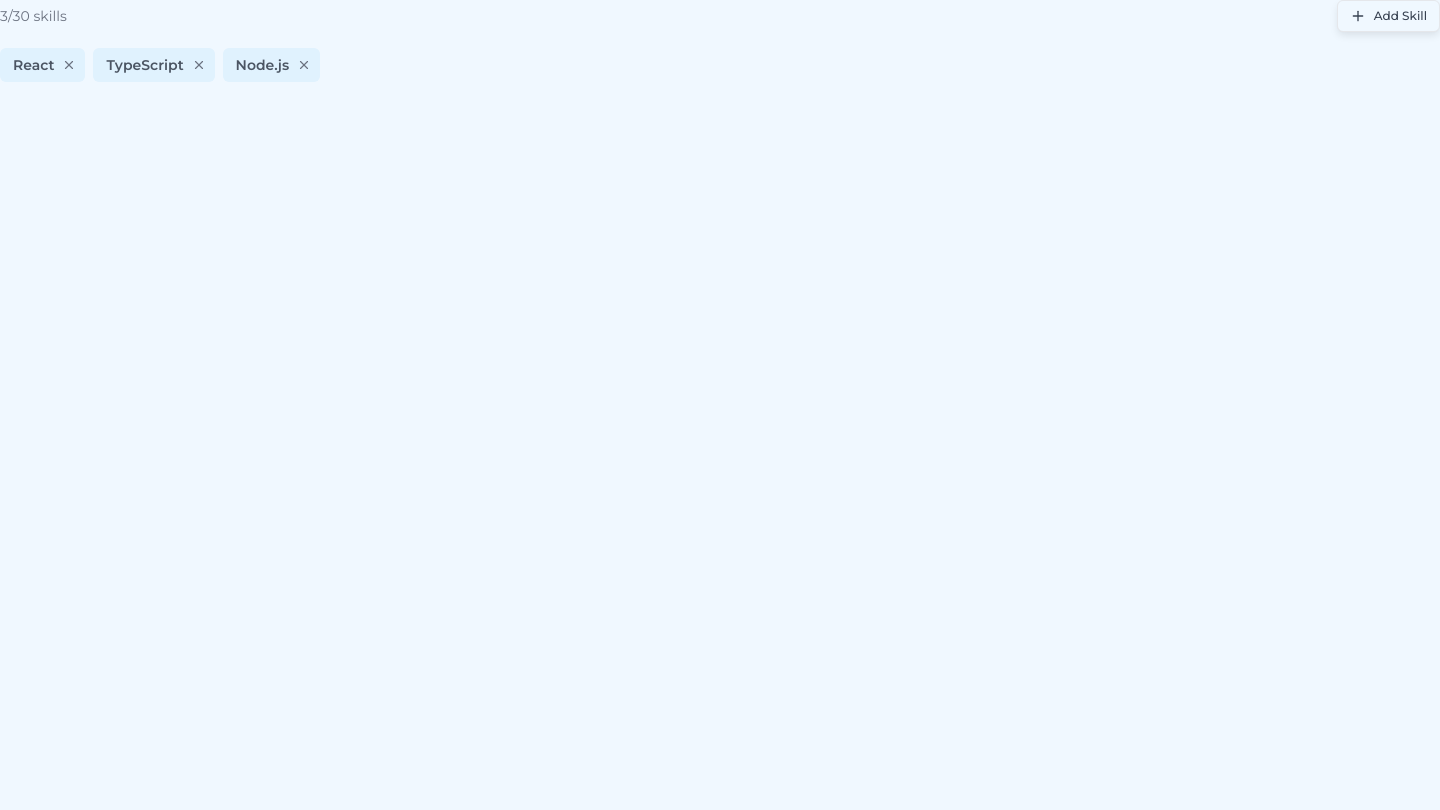
Test: SkillsSection › opens remove confirmation dialog when remove is clicked
This screenshot has width=1440, height=810.
Click the button named "remove react". click: (69, 65)
box: [60,56,78,74]
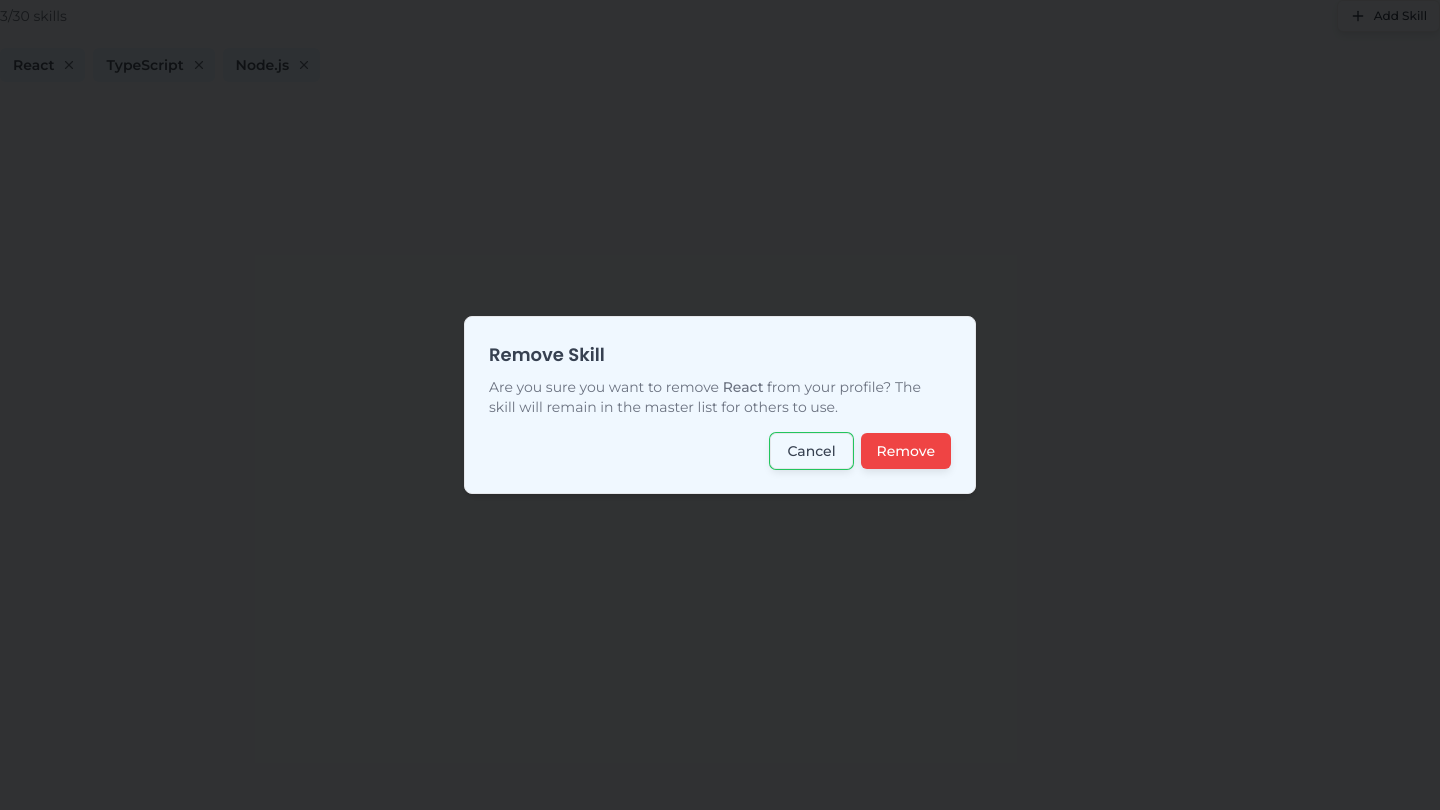
Check: the text "Are you sure you want to remove" is shown, box [489,378,719,396]
Check: the button "Remove" is shown, box [861,433,951,469]
